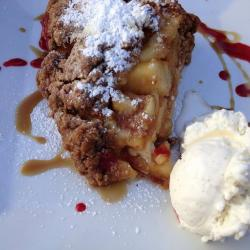apple_pie: (40, 1, 193, 179)
icecream: (170, 115, 250, 237)
